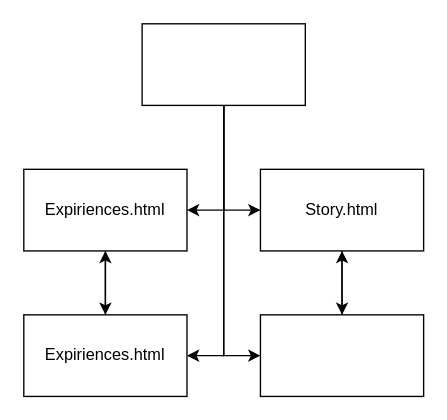
Image size: 447x420. Some labels were removed from this diagram. Each missing label, with the box of its shape:
index.html: (141, 22, 305, 105)
Inspiration.html: (259, 313, 424, 396)
